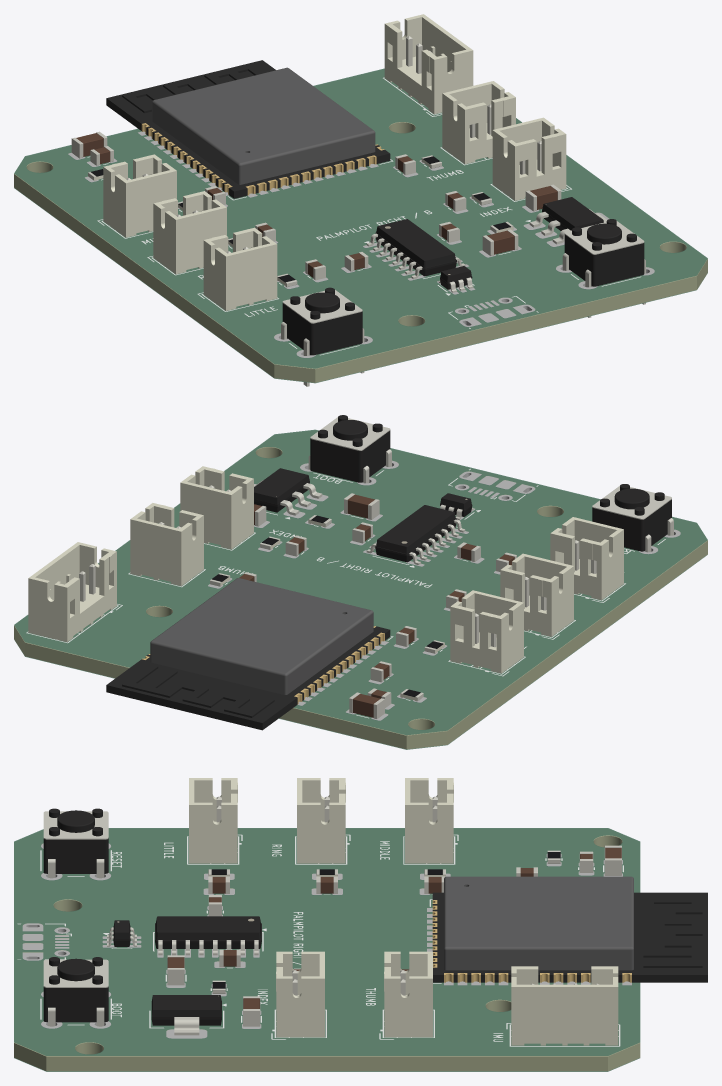
The model's file is carrier.glb.
3 renders of one model, top to bottom at view 1: azimuth 30°, elevation 25°; view 2: azimuth 150°, elevation 25°; view 3: azimuth 270°, elevation 25°, orthographic. The views are drawn at different scales.
Visible parts, largest first — view 1: =>[0:1:1:26], =>[0:1:1:24], =>[0:1:1:11] (×5), =>[0:1:1:13], =>[0:1:1:9] (×2), =>[0:1:1:17], =>[0:1:1:22], =>[0:1:1:15], =>[0:1:1:3] (×3), =>[0:1:1:21], =>[0:1:1:23], =>[0:1:1:25] (+1 smaller); view 2: =>[0:1:1:26], =>[0:1:1:24], =>[0:1:1:13], =>[0:1:1:11] (×5), =>[0:1:1:9] (×2), =>[0:1:1:17], =>[0:1:1:22], =>[0:1:1:15], =>[0:1:1:21], =>[0:1:1:23], =>[0:1:1:3] (×2), =>[0:1:1:25] (+1 smaller); view 3: =>[0:1:1:26], =>[0:1:1:24], =>[0:1:1:13], =>[0:1:1:11] (×5), =>[0:1:1:9] (×2), =>[0:1:1:17], =>[0:1:1:15], =>[0:1:1:22], =>[0:1:1:23], =>[0:1:1:21], =>[0:1:1:3] (×3), =>[0:1:1:19] (+1 smaller).
Boxes of the visible parts, <box> form: =>[0:1:1:26]: <box>14,70,707,382</box>; =>[0:1:1:24]: <box>14,68,707,368</box>; =>[0:1:1:11] (×5): <box>103,81,566,310</box>; =>[0:1:1:13]: <box>106,60,390,198</box>; =>[0:1:1:9] (×2): <box>281,219,645,386</box>; =>[0:1:1:17]: <box>384,14,473,114</box>; =>[0:1:1:22]: <box>68,131,654,357</box>; =>[0:1:1:15]: <box>366,219,465,279</box>; =>[0:1:1:3] (×3): <box>71,131,561,255</box>; =>[0:1:1:21]: <box>529,197,606,244</box>; =>[0:1:1:23]: <box>87,77,641,355</box>; =>[0:1:1:25]: <box>14,188,707,383</box>; =>[0:1:1:26]: <box>14,430,707,749</box>; =>[0:1:1:24]: <box>14,429,707,735</box>; =>[0:1:1:13]: <box>106,578,390,730</box>; =>[0:1:1:11] (×5): <box>130,466,623,673</box>; =>[0:1:1:9] (×2): <box>308,415,673,552</box>; =>[0:1:1:17]: <box>28,542,116,641</box>; =>[0:1:1:22]: <box>208,461,680,720</box>; =>[0:1:1:15]: <box>366,505,465,564</box>; =>[0:1:1:21]: <box>254,468,322,515</box>; =>[0:1:1:23]: <box>26,468,665,718</box>; =>[0:1:1:3] (×2): <box>344,493,384,718</box>; =>[0:1:1:25]: <box>14,554,707,749</box>; =>[0:1:1:26]: <box>14,829,640,1071</box>; =>[0:1:1:24]: <box>14,828,640,1055</box>; =>[0:1:1:13]: <box>432,876,707,982</box>; =>[0:1:1:11] (×5): <box>189,778,453,1037</box>; =>[0:1:1:9] (×2): <box>43,808,108,1026</box>; =>[0:1:1:17]: <box>511,966,618,1045</box>; =>[0:1:1:15]: <box>155,916,261,955</box>; =>[0:1:1:22]: <box>22,843,631,1038</box>; =>[0:1:1:23]: <box>17,834,623,1046</box>; =>[0:1:1:21]: <box>151,995,221,1035</box>; =>[0:1:1:3] (×3): <box>167,845,621,1026</box>; =>[0:1:1:19]: <box>107,920,136,946</box>.
Size of the model in its own units: 0.05 by 0.0095 by 0.0642.
